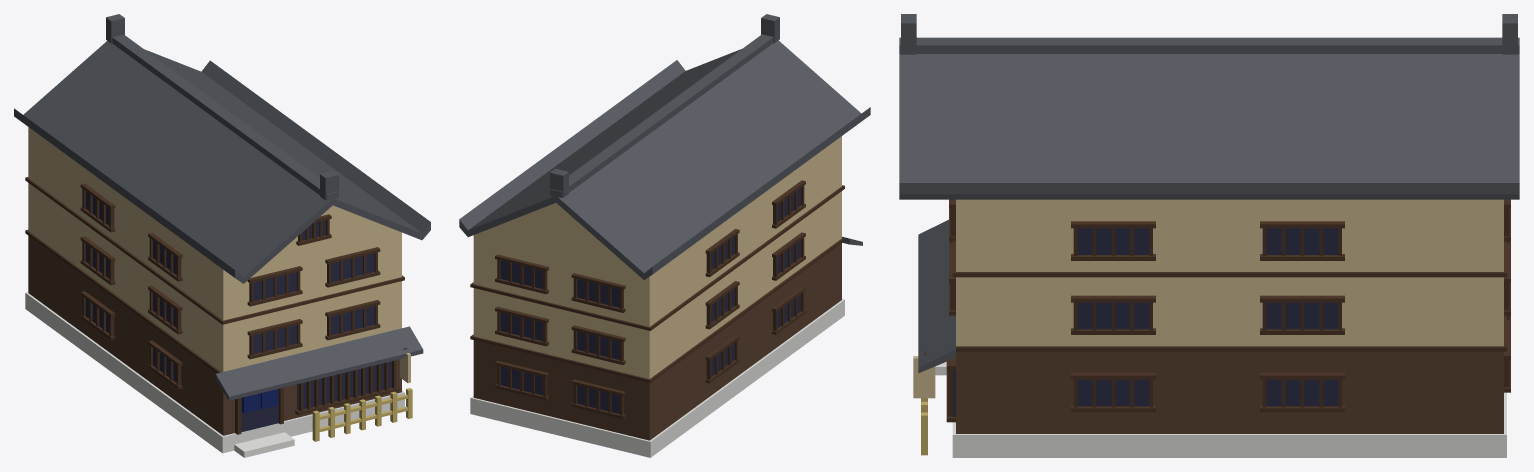
Rendered from house-1x2-3f-machiya-a.glb.
3 renders of one model, left to right at view 1: azimuth 30°, elevation 25°; view 2: azimuth 150°, elevation 25°; view 3: azimuth 270°, elevation 25°, orthographic. The views are drawn at different scales.
Visible parts, largest first — view 1: house-1x2-3f-machiya-a; view 2: house-1x2-3f-machiya-a; view 3: house-1x2-3f-machiya-a.
Part boxes in pixels (left/top/right/bottom): house-1x2-3f-machiya-a: left=14, top=14, right=430, bottom=457; house-1x2-3f-machiya-a: left=459, top=14, right=870, bottom=457; house-1x2-3f-machiya-a: left=899, top=14, right=1519, bottom=457.
Size of the model in its own units: 1.01 by 1.32 by 1.97.
1 material, 1 textured.
